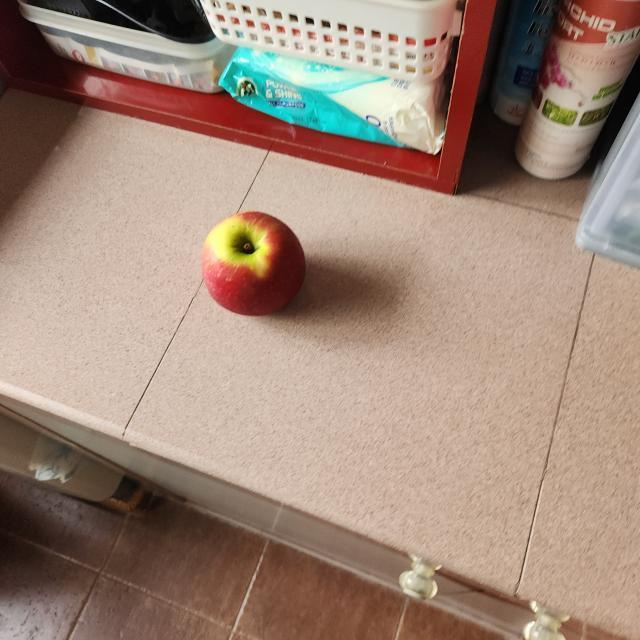apple: (194, 208, 310, 328)
